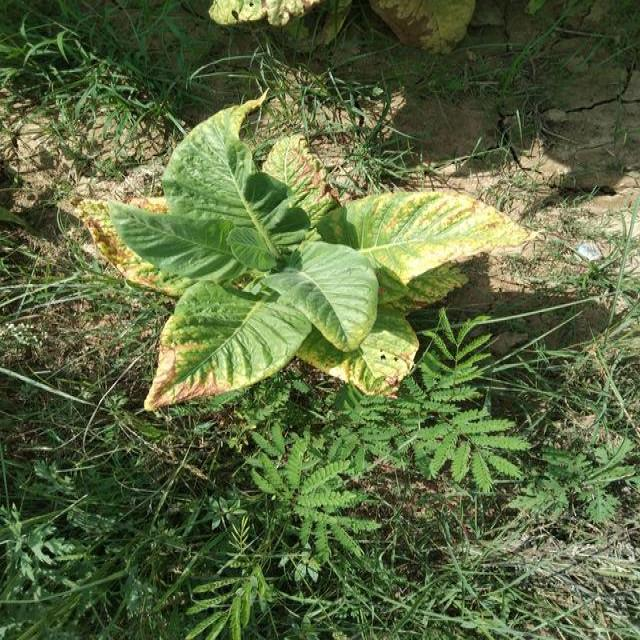crop: (78, 119, 527, 391)
